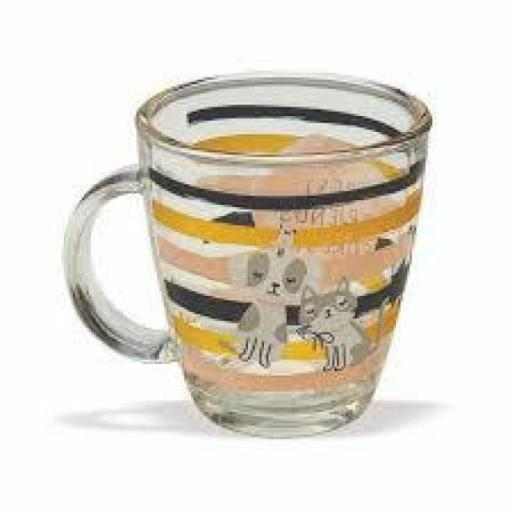glass: (58, 64, 436, 446)
